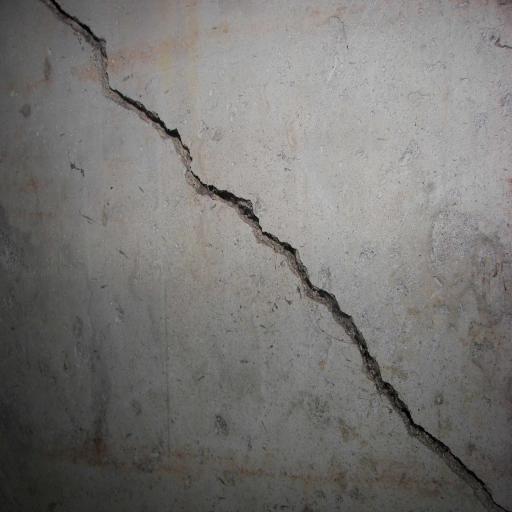spalling: (39, 1, 500, 508)
